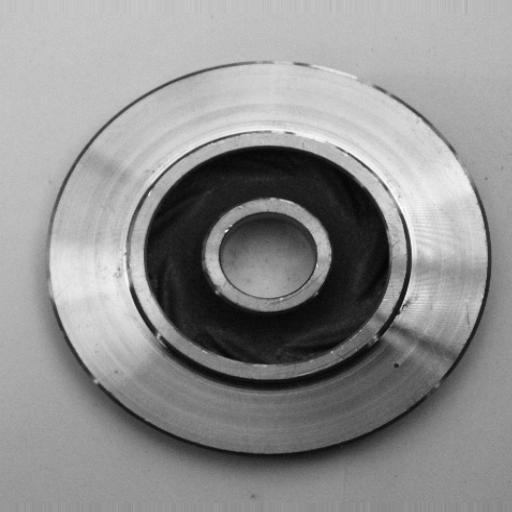crack: (379, 284, 425, 341)
scratch: (290, 48, 377, 97), (268, 115, 348, 158)
unpolished_casting: (52, 56, 493, 462)
